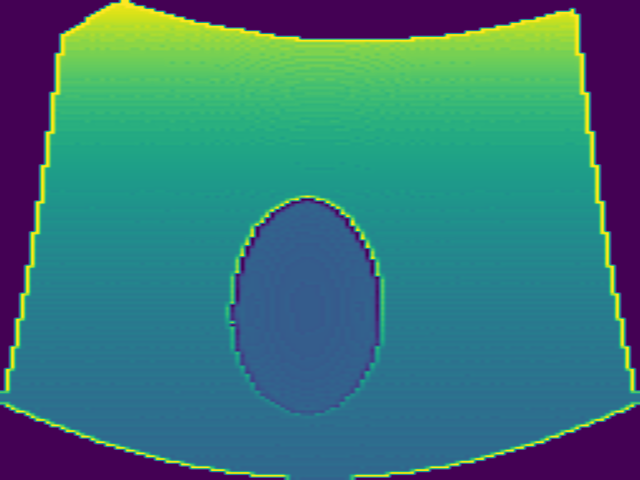sphere: (228, 193, 385, 417)
